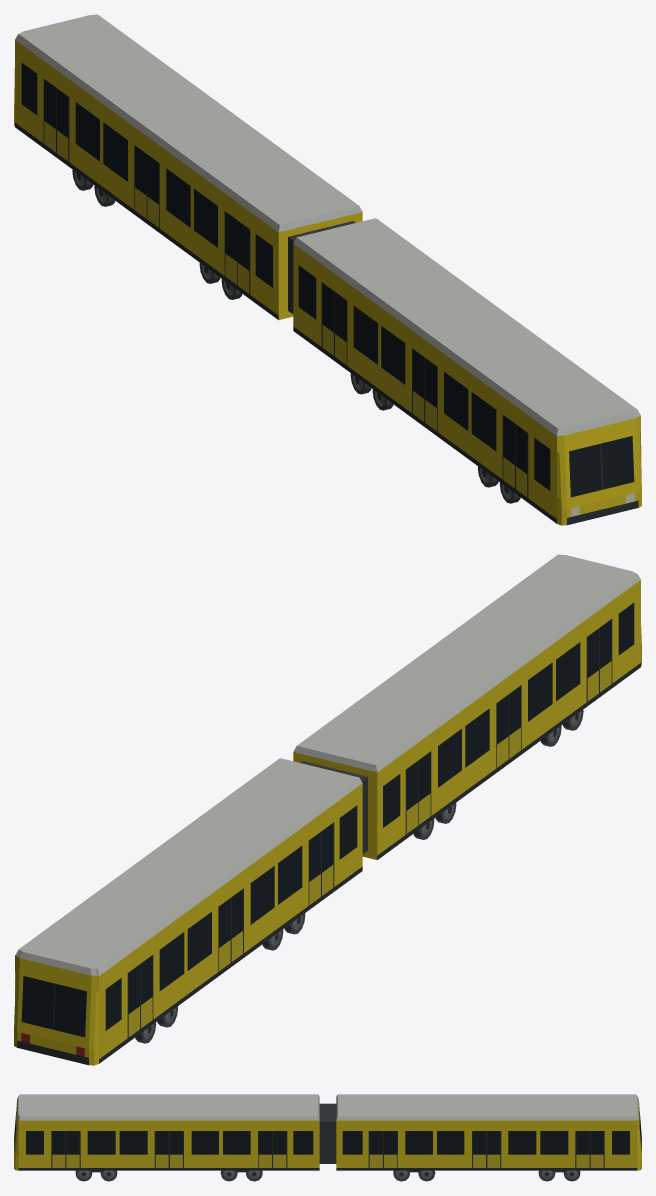
The model's file is u_bahn_lowpoly_v2.glb.
The picture shows the model from 3 angles, top to bottom: view 1: azimuth 30°, elevation 25°; view 2: azimuth 150°, elevation 25°; view 3: azimuth 270°, elevation 25°; orthographic projection. The views are drawn at different scales.
Visible parts, largest first — view 1: u_bahn_lowpoly_v2; view 2: u_bahn_lowpoly_v2; view 3: u_bahn_lowpoly_v2.
Boxes of the visible parts, x1=… form: u_bahn_lowpoly_v2: x1=14, y1=14, x2=641, y2=525; u_bahn_lowpoly_v2: x1=14, y1=554, x2=641, y2=1065; u_bahn_lowpoly_v2: x1=14, y1=1094, x2=641, y2=1181.
Size of the model in its own units: 2.65 by 3.5 by 30.
